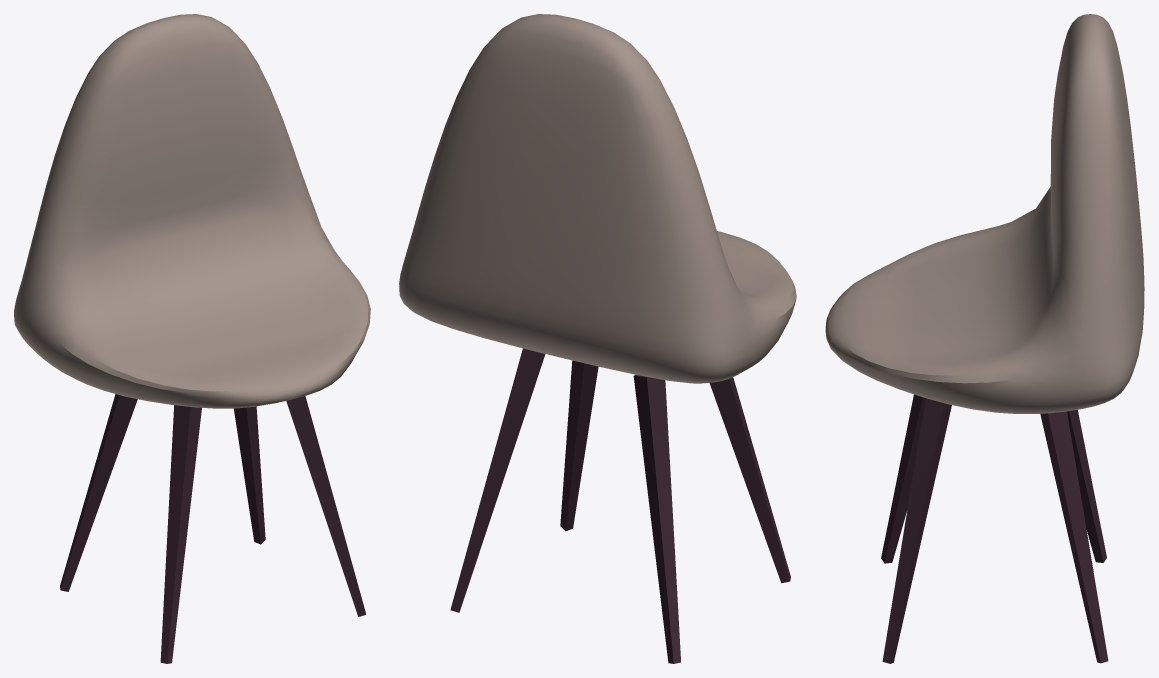
Rendered from Tabyuretkya.fbx.
3 views of the same model, side by side, from view 1: azimuth 30°, elevation 25°; view 2: azimuth 150°, elevation 25°; view 3: azimuth 270°, elevation 25° (orthographic). The views are drawn at different scales.
Visible parts, largest first — view 1: Cube.029; view 2: Cube.029; view 3: Cube.029.
Boxes of the visible parts, x1=… form: Cube.029: x1=14, y1=14, x2=370, y2=663; Cube.029: x1=399, y1=14, x2=796, y2=663; Cube.029: x1=825, y1=14, x2=1144, y2=663.
Bounding box in the file's own units: 3.9 × 3.38 × 6.85.
